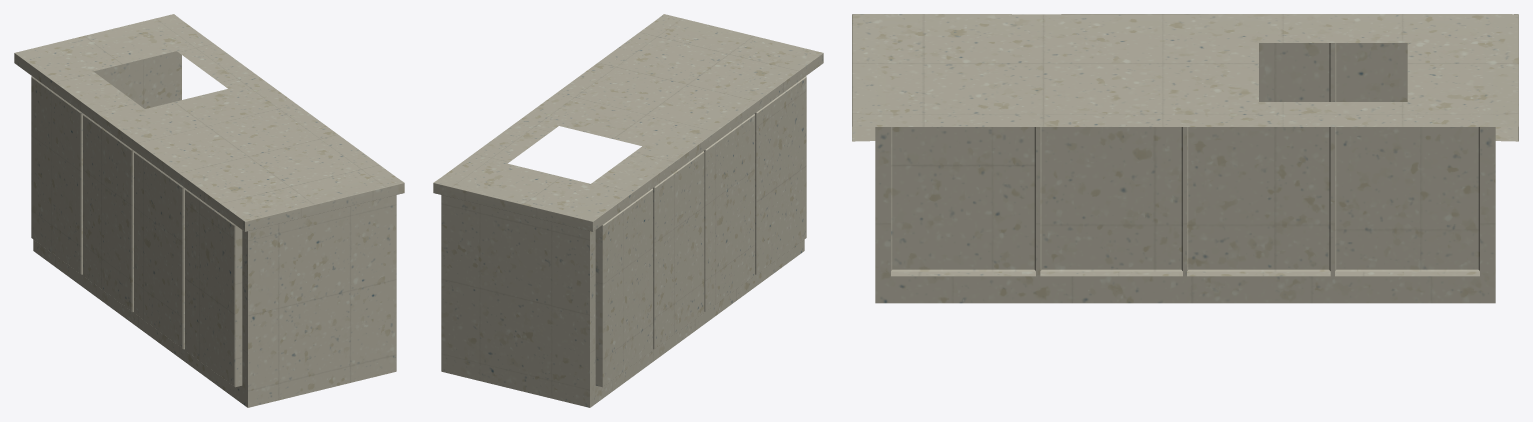
Rendered from Counter.fbx.
3 views of the same model, side by side, from view 1: azimuth 30°, elevation 25°; view 2: azimuth 150°, elevation 25°; view 3: azimuth 270°, elevation 25° (orthographic). The views are drawn at different scales.
Parts seen in each view (by area): view 1: Floor_1:polySurface74; view 2: Floor_1:polySurface74; view 3: Floor_1:polySurface74.
Part boxes in pixels (box(x1,y1,x2,y2)): Floor_1:polySurface74: box(14, 14, 404, 407); Floor_1:polySurface74: box(433, 14, 823, 407); Floor_1:polySurface74: box(852, 14, 1518, 303).
Bounding box in the file's own units: 85.89 × 100 × 215.
